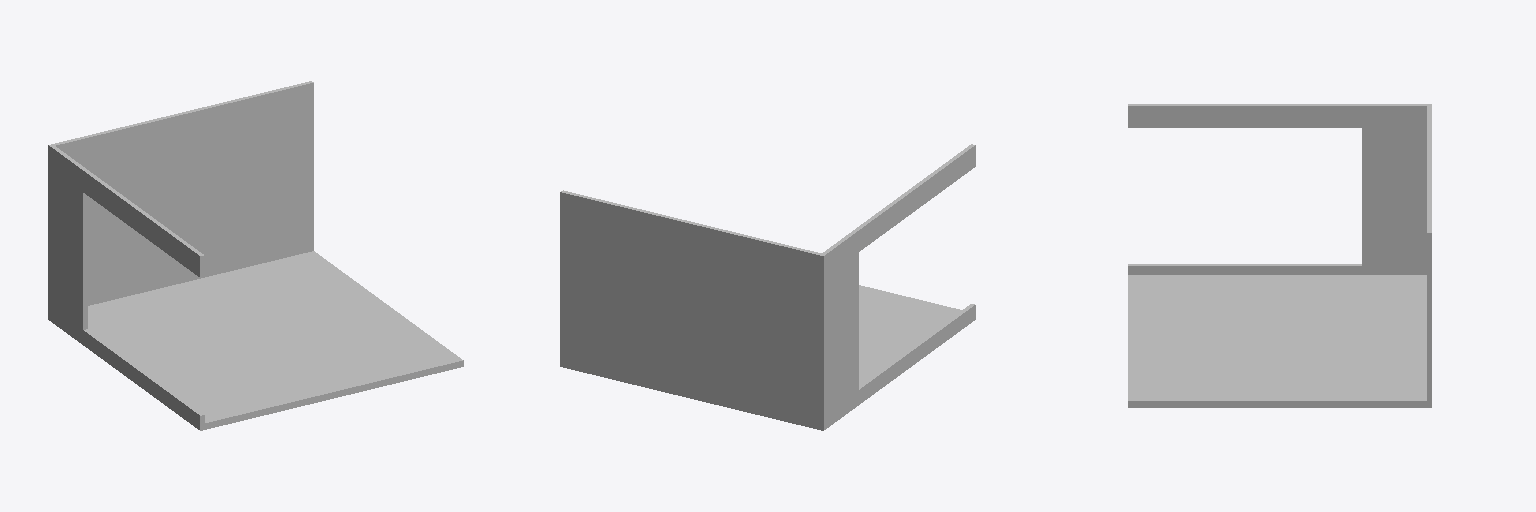
Rendered from 4x2 third-0.obj.
3 renders of one model, left to right at view 1: azimuth 30°, elevation 25°; view 2: azimuth 150°, elevation 25°; view 3: azimuth 270°, elevation 25°, orthographic.
Visible parts, largest first — view 1: 4x2 third-0; view 2: 4x2 third-0; view 3: 4x2 third-0.
Part boxes in pixels (bbox=[...]): 4x2 third-0: bbox=[48, 81, 463, 430]; 4x2 third-0: bbox=[560, 144, 975, 430]; 4x2 third-0: bbox=[1128, 104, 1431, 407].
Size of the model in its own units: 126 by 80 by 126.